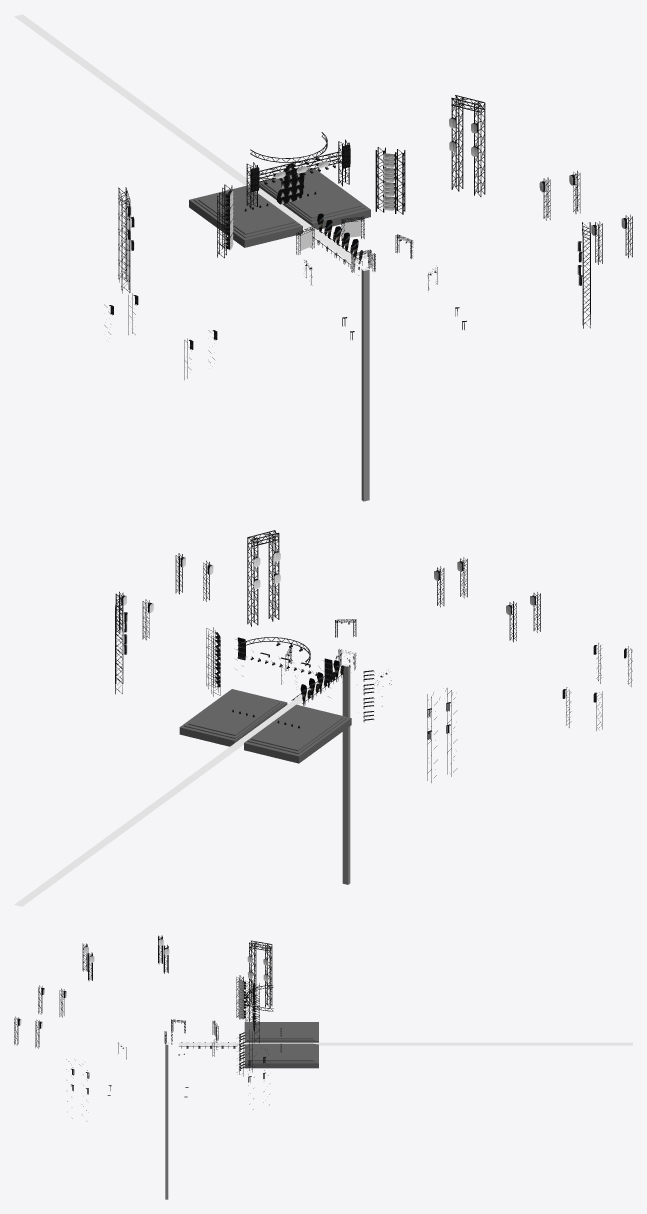
Rendered from pyro.glb.
3 views of the same model, one above another, from view 1: azimuth 30°, elevation 25°; view 2: azimuth 150°, elevation 25°; view 3: azimuth 270°, elevation 25° (orthographic). The views are drawn at different scales.
Visible parts, largest first — view 1: StairsLeft, StairsRight, TrackMirror, Construction, PyroLogo; view 2: StairsLeft, StairsRight, TrackMirror, Construction; view 3: StairsRight, TrackMirror, StairsLeft, Construction.
Part boxes in pixels (x1,y1,x2,y2): StairsLeft: [189, 186, 302, 247]; StairsRight: [259, 169, 370, 229]; TrackMirror: [14, 14, 358, 263]; Construction: [361, 269, 369, 501]; PyroLogo: [276, 164, 304, 204]; StairsLeft: [244, 704, 351, 763]; StairsRight: [179, 689, 287, 746]; TrackMirror: [14, 670, 340, 906]; Construction: [342, 666, 350, 884]; StairsRight: [244, 1043, 318, 1068]; TrackMirror: [178, 1042, 632, 1045]; StairsLeft: [244, 1022, 318, 1042]; Construction: [165, 1045, 168, 1199].
Bounding box in the file's own units: 252 × 151 × 409.
Materials: 25 (18 with a texture image).
